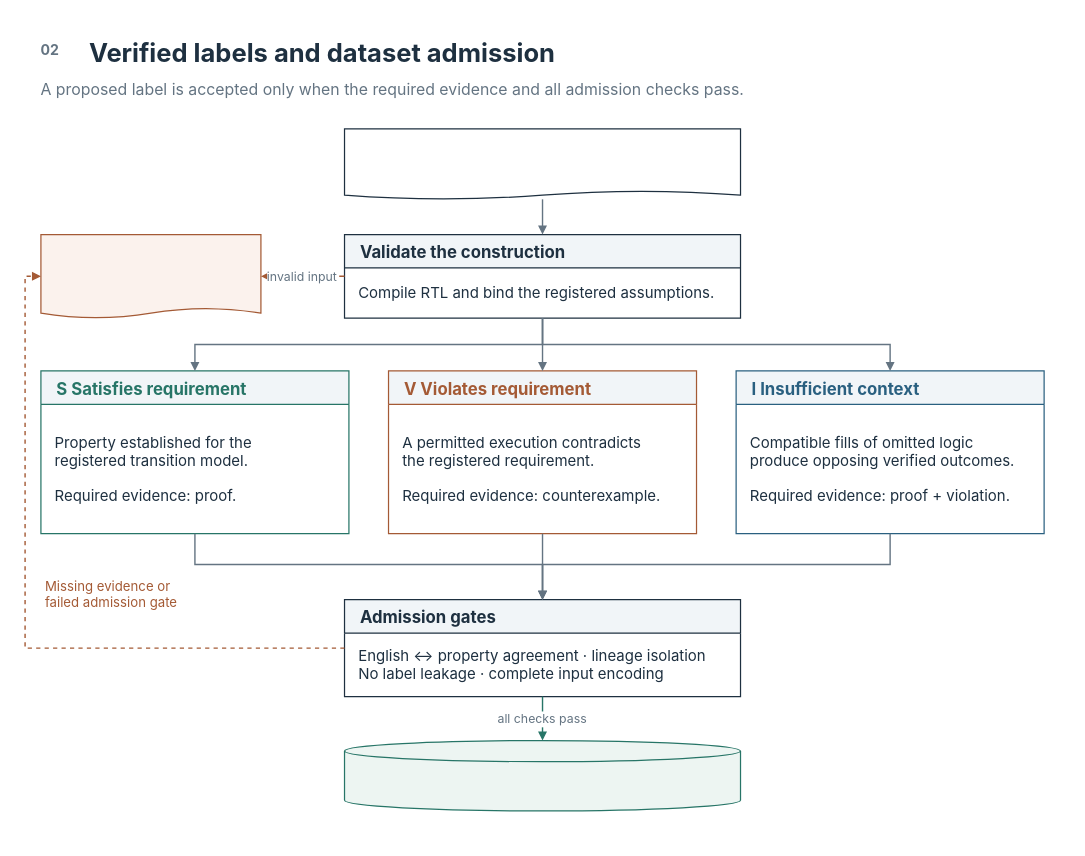
Image size: 1085x856. Some labels were removed from this diagram. Here are the shapes that lost their labels. From the top down, the centre of each, then its label:
At pixel 542 163: "Local RTL + English requirement + stated assumptions".
At pixel 150 275: "REFUSE ADMISSION Retain rejection evidence".
At pixel 542 775: "FROZEN DATA RELEASE Split-bound rows + retained proof evidence".
